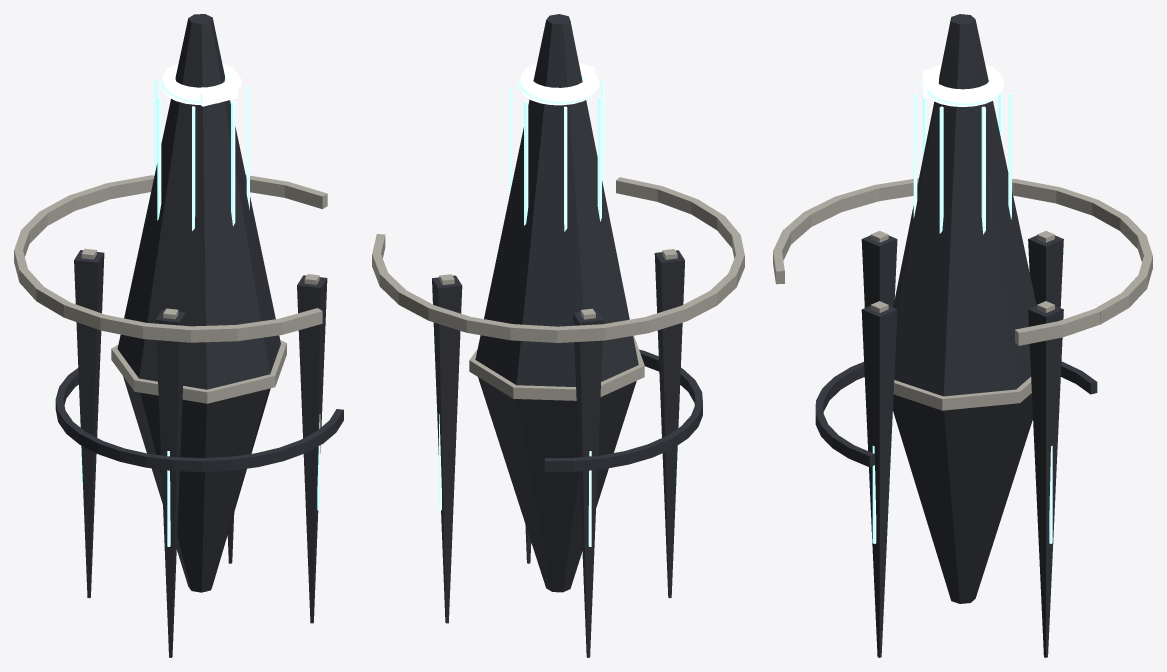
The model's file is keeper.glb.
3 views of the same model, side by side, from view 1: azimuth 30°, elevation 25°; view 2: azimuth 150°, elevation 25°; view 3: azimuth 270°, elevation 25° (orthographic).
Parts seen in each view (by area): view 1: core, ring_a, blade_3, blade_1, blade_2, ring_b, eye; view 2: core, ring_a, blade_0, blade_2, blade_1, ring_b, eye; view 3: core, ring_a, blade_3, blade_0, ring_b, blade_2, blade_1, eye.
Part boxes in pixels (x1,y1,x2,y2): core: [111, 14, 286, 592]; ring_a: [14, 175, 327, 342]; blade_3: [297, 274, 327, 623]; blade_1: [74, 248, 104, 598]; blade_2: [155, 308, 185, 657]; ring_b: [55, 368, 343, 472]; eye: [159, 63, 241, 106]; core: [469, 14, 644, 592]; ring_a: [372, 177, 744, 342]; blade_0: [432, 274, 462, 623]; blade_2: [654, 249, 684, 598]; blade_1: [573, 308, 603, 657]; ring_b: [544, 349, 702, 471]; eye: [517, 63, 599, 105]; core: [893, 14, 1036, 603]; ring_a: [773, 178, 1152, 345]; blade_3: [861, 301, 897, 657]; blade_0: [1028, 301, 1063, 657]; ring_b: [815, 361, 1097, 467]; blade_2: [861, 230, 897, 307]; blade_1: [1028, 231, 1063, 307]; eye: [920, 64, 1004, 106].
Size of the model in its own units: 1.45 by 2.6 by 1.49.
